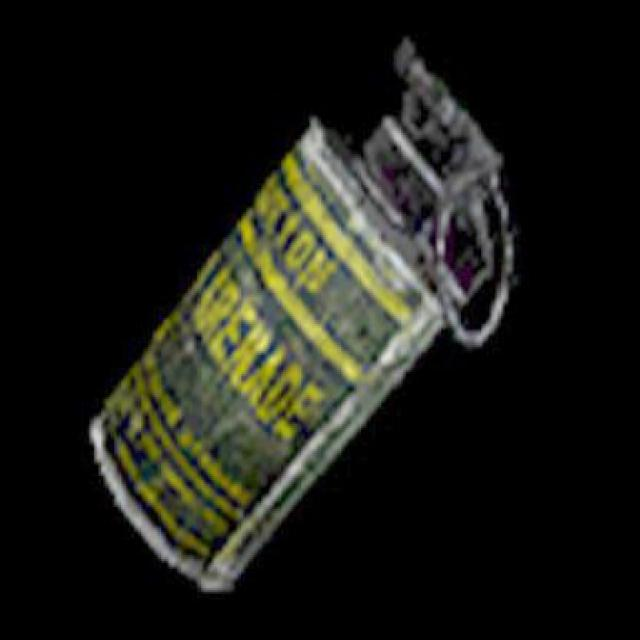grenade: (93, 45, 515, 592)
